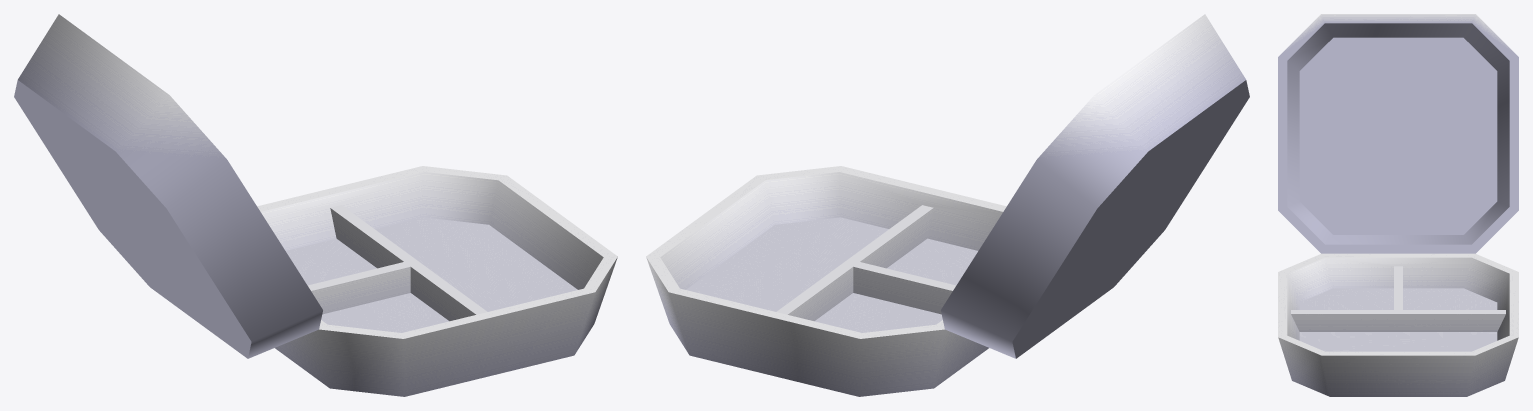
File: styrofoam.glb
3 renders of one model, left to right at view 1: azimuth 30°, elevation 25°; view 2: azimuth 150°, elevation 25°; view 3: azimuth 270°, elevation 25°, orthographic. The views are drawn at different scales.
Visible parts, largest first — view 1: styrofoam, lid; view 2: styrofoam, lid; view 3: lid, styrofoam.
Part boxes in pixels (x1,y1,x2,y2): styrofoam: (257, 166, 617, 396); lid: (14, 14, 322, 358); styrofoam: (646, 166, 1006, 396); lid: (941, 14, 1249, 358); lid: (1278, 14, 1518, 253); styrofoam: (1278, 253, 1518, 396).
Bounding box in the file's own units: 1.26 × 0.822 × 0.7589.
Materials: 1 (1 with a texture image).
